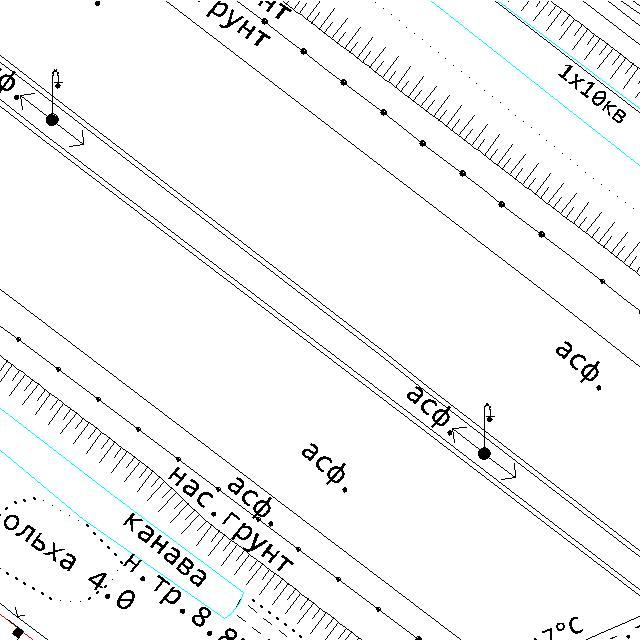asphalt: (228, 474, 276, 527), (555, 340, 603, 392), (301, 442, 349, 494), (406, 384, 453, 430)
